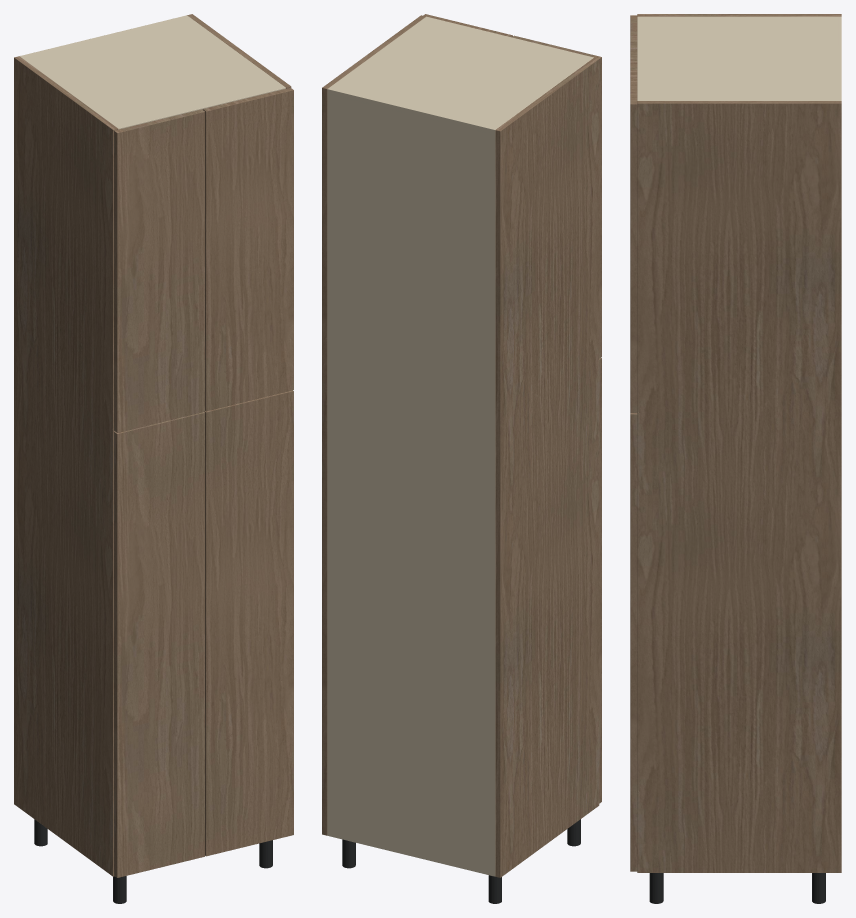
File: oppein-ply-mnw-pc2496.glb
The picture shows the model from 3 angles, left to right: view 1: azimuth 30°, elevation 25°; view 2: azimuth 150°, elevation 25°; view 3: azimuth 270°, elevation 25°; orthographic projection. The views are drawn at different scales.
Visible parts, largest first — view 1: Cabinet side, Door, Door.001, Door.002, Door.003, Cabinet top, Cabinet side.001; view 2: Cabinet back, Cabinet side, Cabinet top, Cabinet side.001, Door, Door.002; view 3: Cabinet side.001, Cabinet top, Door.001, Door.003, Cabinet side, Adjustable foot.003.
Part boxes in pixels (left/top/right/bottom): Cabinet side: left=14, top=56, right=118, bottom=876; Door: left=114, top=412, right=204, bottom=877; Door.001: left=204, top=390, right=293, bottom=856; Door.002: left=114, top=109, right=204, bottom=432; Door.003: left=202, top=87, right=293, bottom=411; Cabinet top: left=21, top=16, right=285, bottom=129; Cabinet side.001: left=187, top=14, right=291, bottom=88; Cabinet back: left=327, top=87, right=496, bottom=876; Cabinet side: left=495, top=57, right=599, bottom=877; Cabinet top: left=328, top=16, right=593, bottom=132; Cabinet side.001: left=322, top=15, right=425, bottom=835; Door: left=599, top=357, right=601, bottom=803; Door.002: left=512, top=35, right=601, bottom=358; Cabinet side.001: left=637, top=101, right=841, bottom=872; Cabinet top: left=637, top=16, right=837, bottom=100; Door.001: left=630, top=413, right=637, bottom=871; Door.003: left=630, top=60, right=637, bottom=412; Cabinet side: left=637, top=14, right=841, bottom=16; Adjustable foot.003: left=649, top=873, right=663, bottom=903.
Bounding box in the file's own units: 0.6096 × 2.55 × 0.6064.
Materials: 3 (1 with a texture image).
